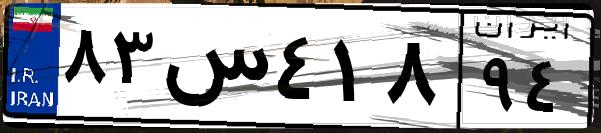1: (330, 28, 385, 110)
3: (110, 28, 158, 98)
4: (270, 28, 330, 110), (525, 38, 570, 115)
8: (385, 28, 445, 110), (57, 26, 110, 100)
9: (475, 38, 525, 113)
س: (158, 20, 270, 120)
